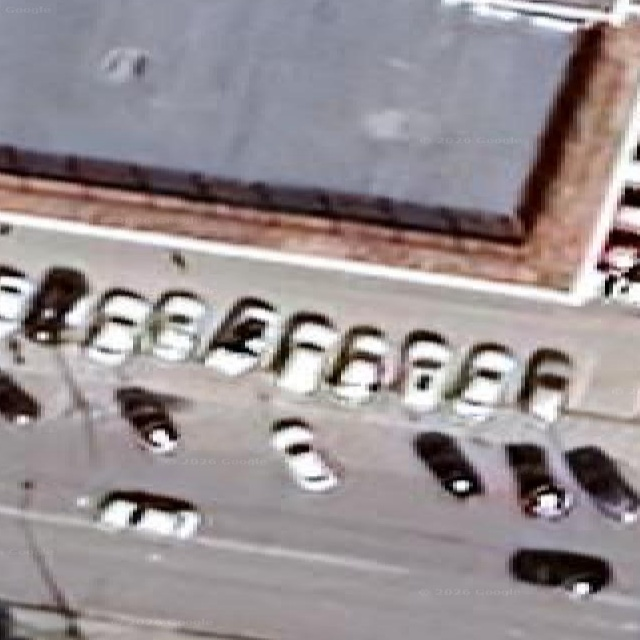car: (203, 298, 278, 376), (565, 446, 639, 523), (273, 312, 338, 394), (505, 443, 573, 519), (22, 267, 88, 345), (96, 490, 201, 539), (84, 289, 150, 365), (451, 343, 516, 420), (509, 549, 611, 597), (272, 418, 338, 492), (326, 326, 388, 404), (414, 432, 483, 498), (399, 330, 451, 413), (115, 387, 178, 454), (148, 291, 206, 361), (519, 349, 572, 423), (0, 266, 33, 338), (0, 372, 40, 424), (604, 264, 639, 305)
